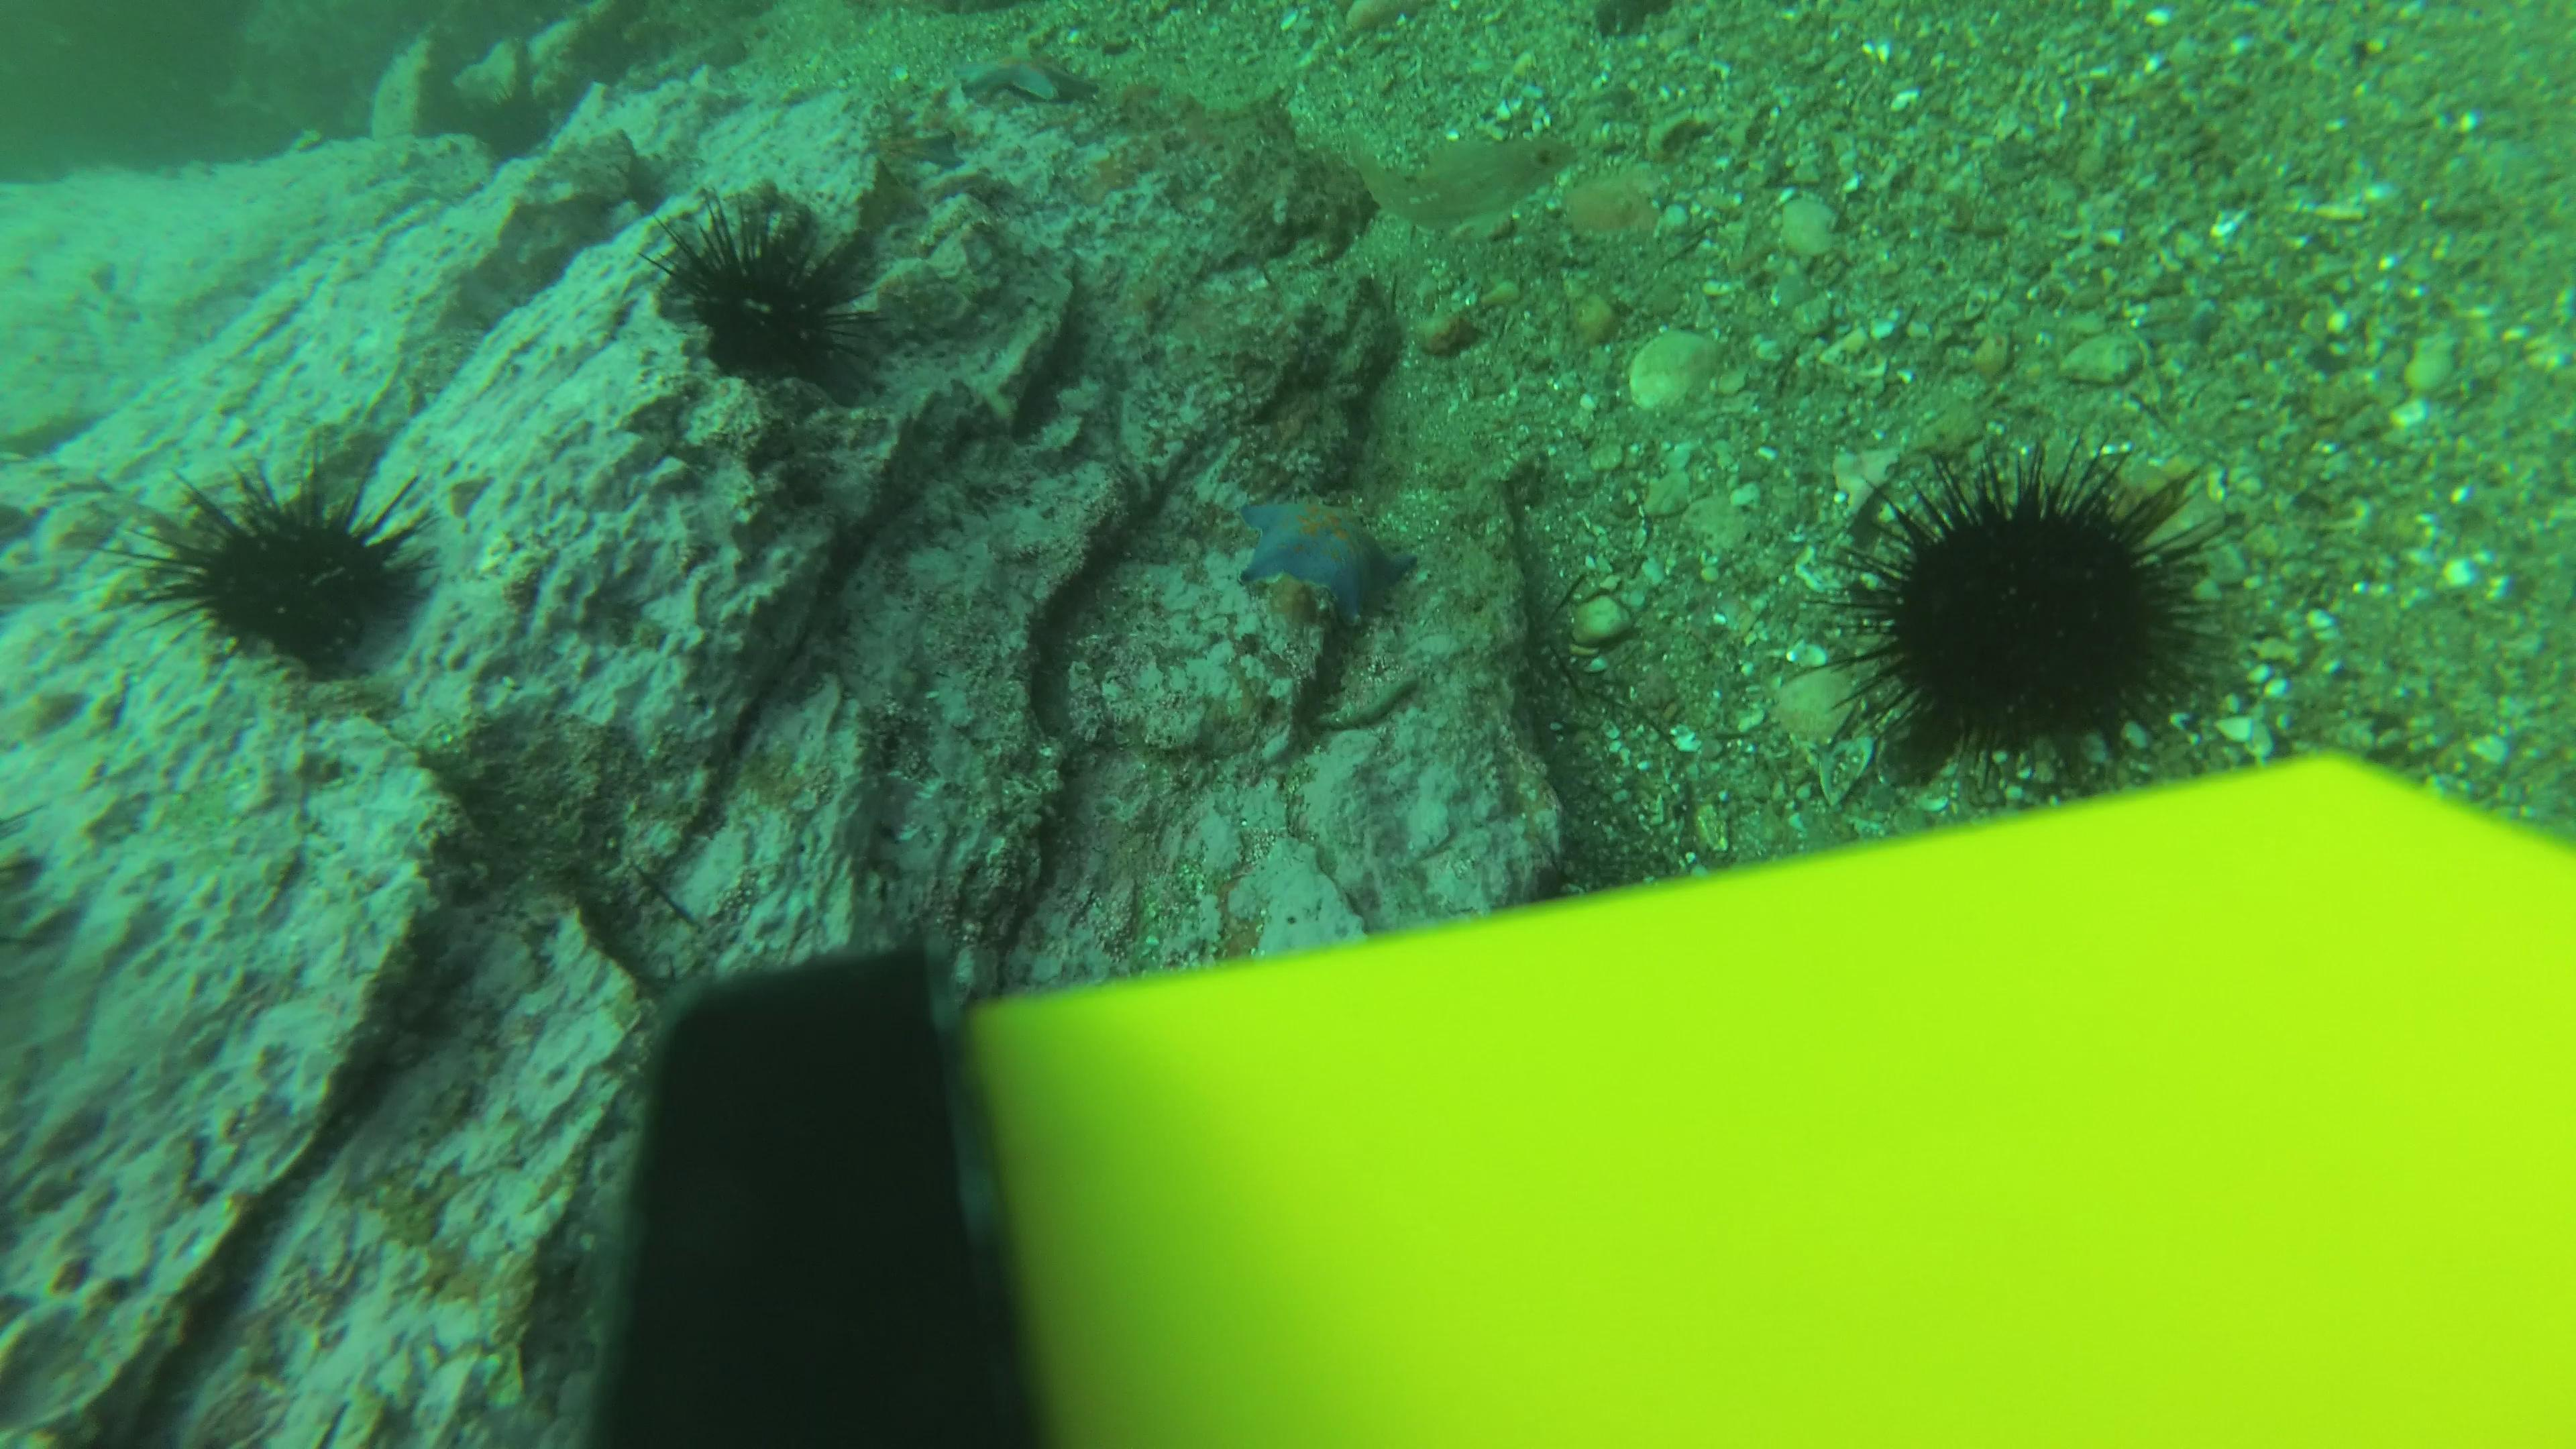urchin: (1824, 426, 2226, 766), (143, 455, 439, 681), (635, 195, 890, 395)
